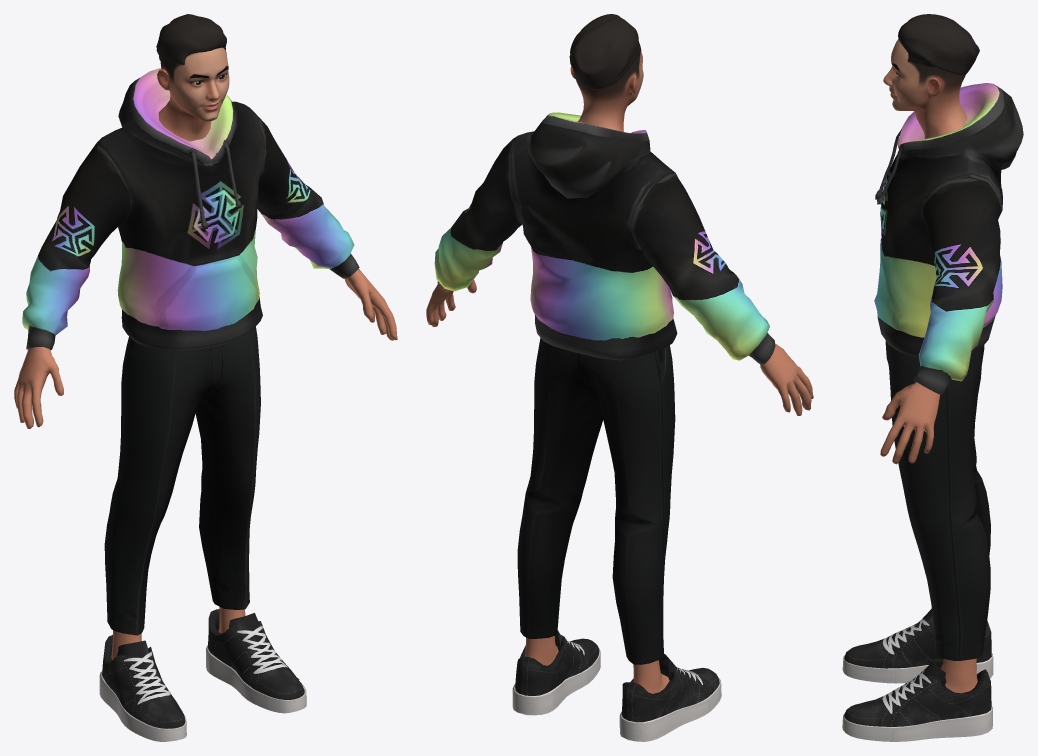
Rendered from human.glb.
3 renders of one model, left to right at view 1: azimuth 30°, elevation 25°; view 2: azimuth 150°, elevation 25°; view 3: azimuth 270°, elevation 25°, orthographic.
Visible parts, largest first — view 1: Object_4, Object_6, Object_3, Object_7, Object_2, Object_5; view 2: Object_4, Object_6, Object_3, Object_2, Object_5, Object_7; view 3: Object_4, Object_6, Object_3, Object_7, Object_2, Object_5.
Boxes of the visible parts, box(x1,y1,x2,y2) form: Object_4: box(22, 68, 359, 350); Object_6: box(104, 326, 260, 635); Object_3: box(99, 609, 306, 741); Object_7: box(157, 47, 229, 141); Object_2: box(14, 268, 397, 660); Object_5: box(156, 14, 226, 64); Object_4: box(434, 112, 775, 364); Object_6: box(517, 338, 675, 664); Object_3: box(512, 630, 721, 741); Object_2: box(426, 279, 813, 693); Object_5: box(569, 14, 641, 89); Object_7: box(570, 50, 643, 131); Object_4: box(874, 83, 1023, 395); Object_6: box(885, 341, 990, 660); Object_3: box(842, 608, 993, 741); Object_7: box(883, 39, 967, 138); Object_2: box(880, 382, 977, 693); Object_5: box(898, 14, 979, 75).
Bounding box in the file's own units: 1.06 × 1.85 × 0.446.
Materials: 8 (8 with a texture image).
